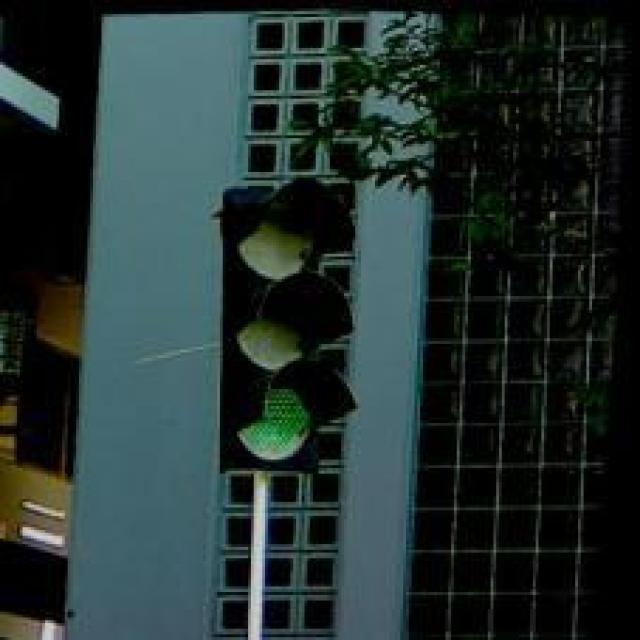Lampu Hijau: (211, 173, 375, 474)
